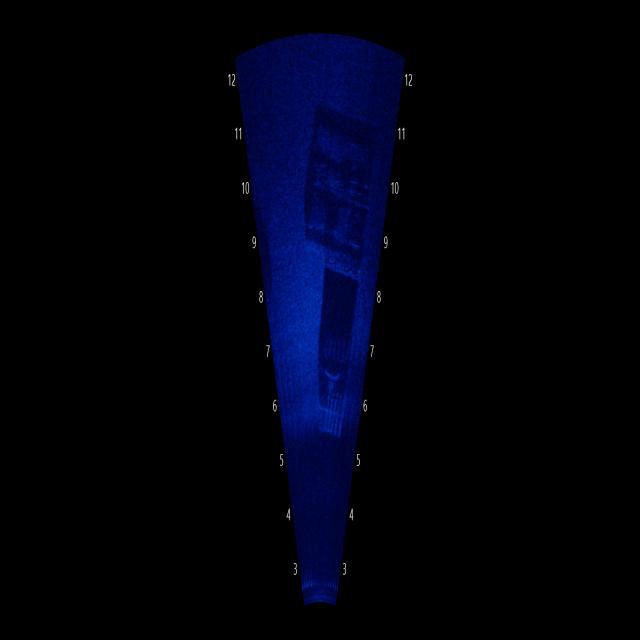square: (294, 98, 380, 271), (305, 300, 357, 456)
